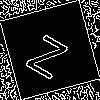Z: (25, 25, 74, 80)
